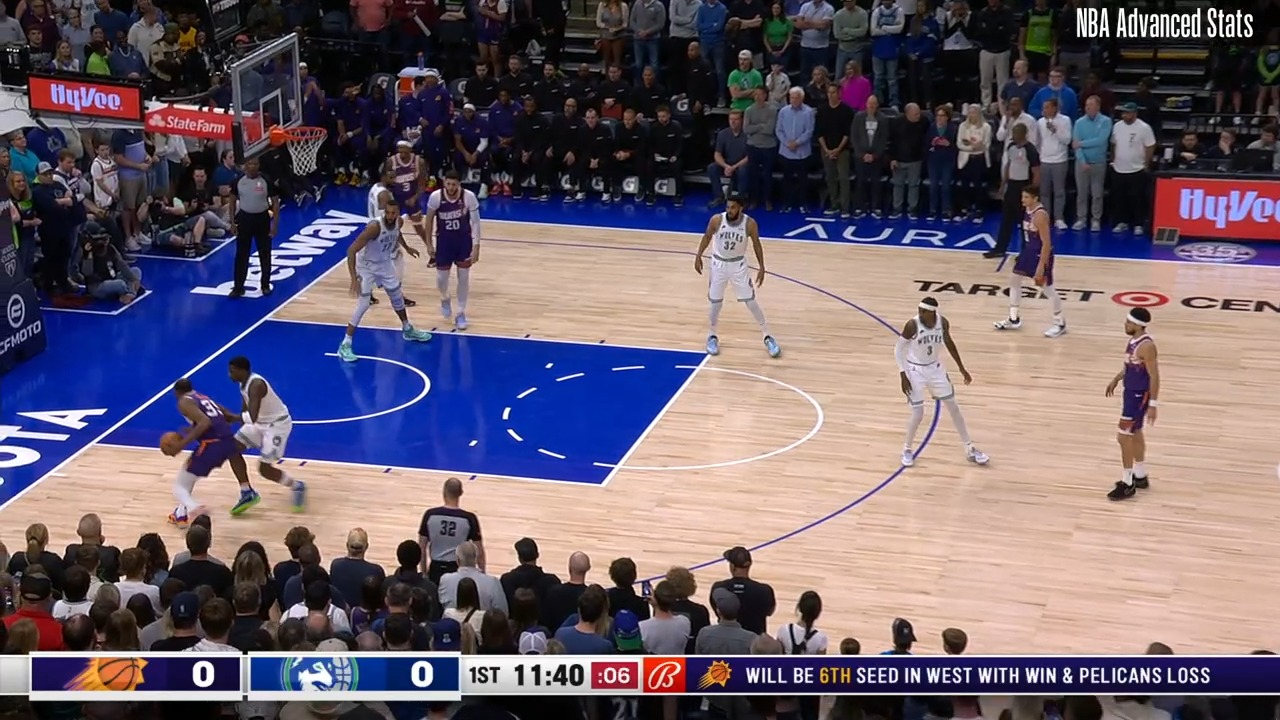basketball: (158, 428, 185, 457)
